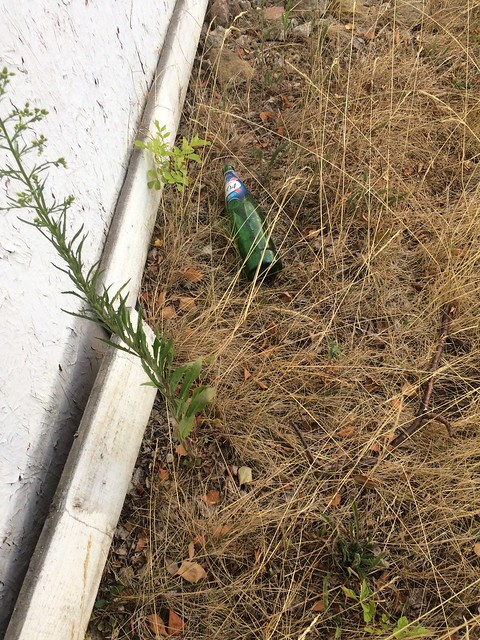bottle: (216, 155, 279, 281)
